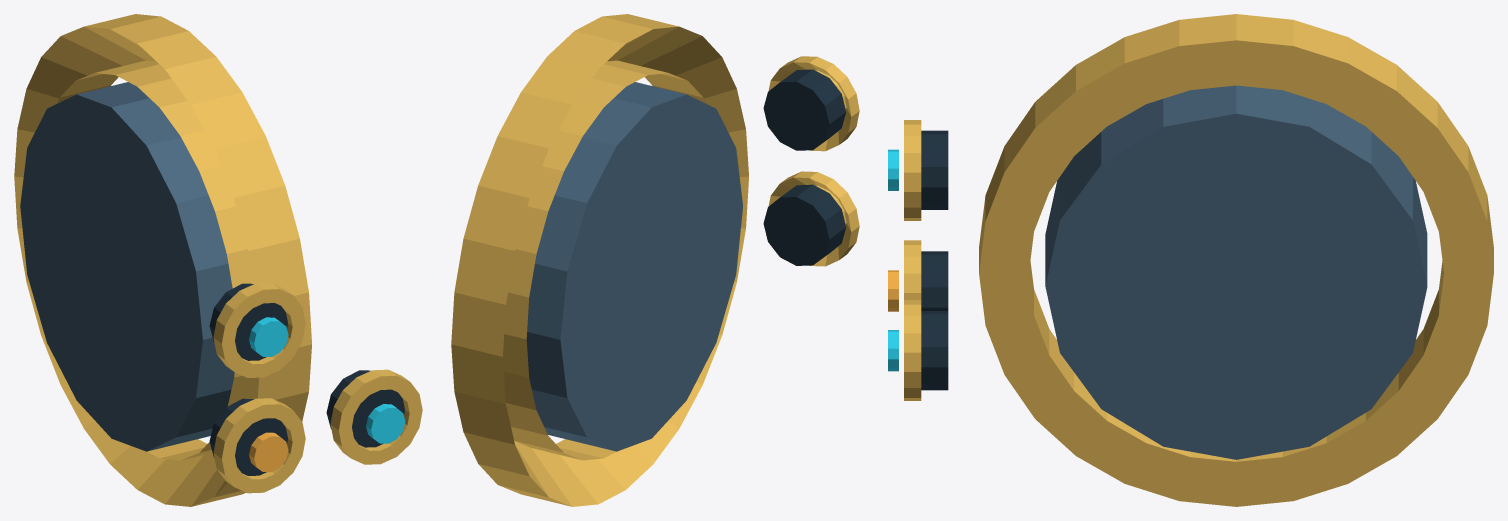
The model's file is 11_L83_SolarArrayAzimuthEncoder.fbx.
3 renders of one model, left to right at view 1: azimuth 30°, elevation 25°; view 2: azimuth 150°, elevation 25°; view 3: azimuth 270°, elevation 25°, orthographic. The views are drawn at different scales.
Parts seen in each view (by area): view 1: SolarArrayAzimuthEncoder; view 2: SolarArrayAzimuthEncoder; view 3: SolarArrayAzimuthEncoder.
Boxes of the visible parts, x1,y1,x2,y2 form: SolarArrayAzimuthEncoder: [14, 14, 422, 506]; SolarArrayAzimuthEncoder: [451, 14, 859, 506]; SolarArrayAzimuthEncoder: [888, 14, 1493, 506].
Size of the model in its own units: 29.2 by 62 by 72.95.
